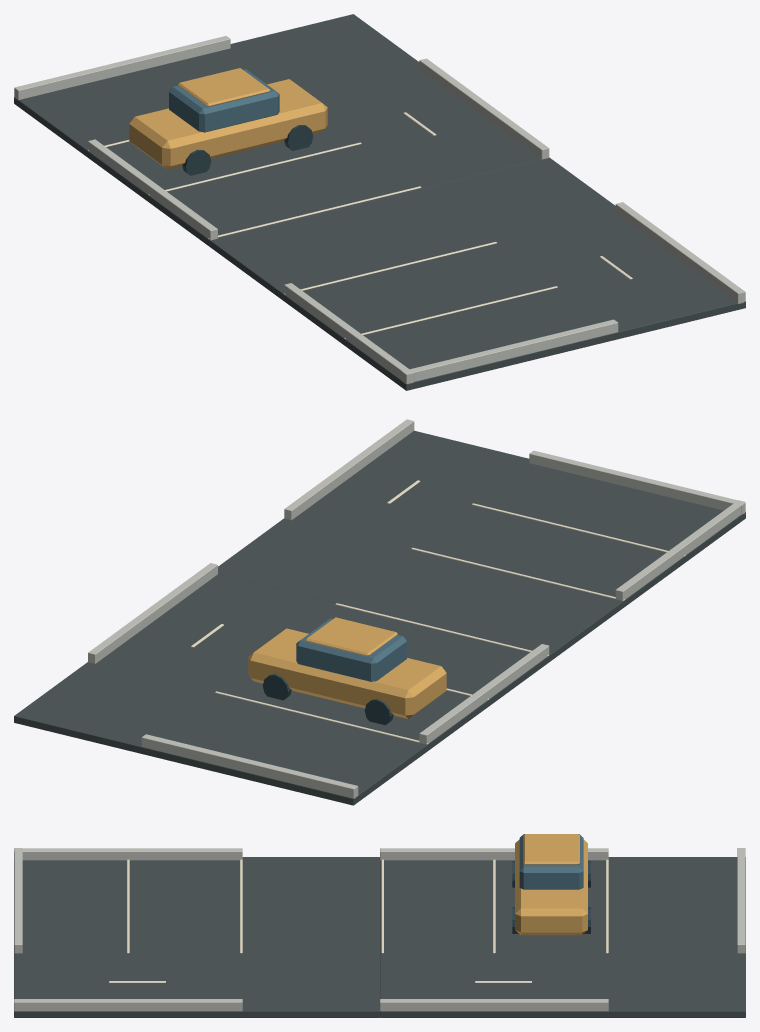
The model's file is parking-small-2x4.glb.
3 renders of one model, top to bottom at view 1: azimuth 30°, elevation 25°; view 2: azimuth 150°, elevation 25°; view 3: azimuth 270°, elevation 25°, orthographic. The views are drawn at different scales.
Parts seen in each view (by area): view 1: FacilityCombinedMesh; view 2: FacilityCombinedMesh; view 3: FacilityCombinedMesh.
Part boxes in pixels (left/top/right/bottom): FacilityCombinedMesh: left=14, top=14, right=745, bottom=390; FacilityCombinedMesh: left=14, top=419, right=745, bottom=805; FacilityCombinedMesh: left=14, top=834, right=745, bottom=1017.
Bounding box in the file's own units: 8 × 1.54 × 16.
